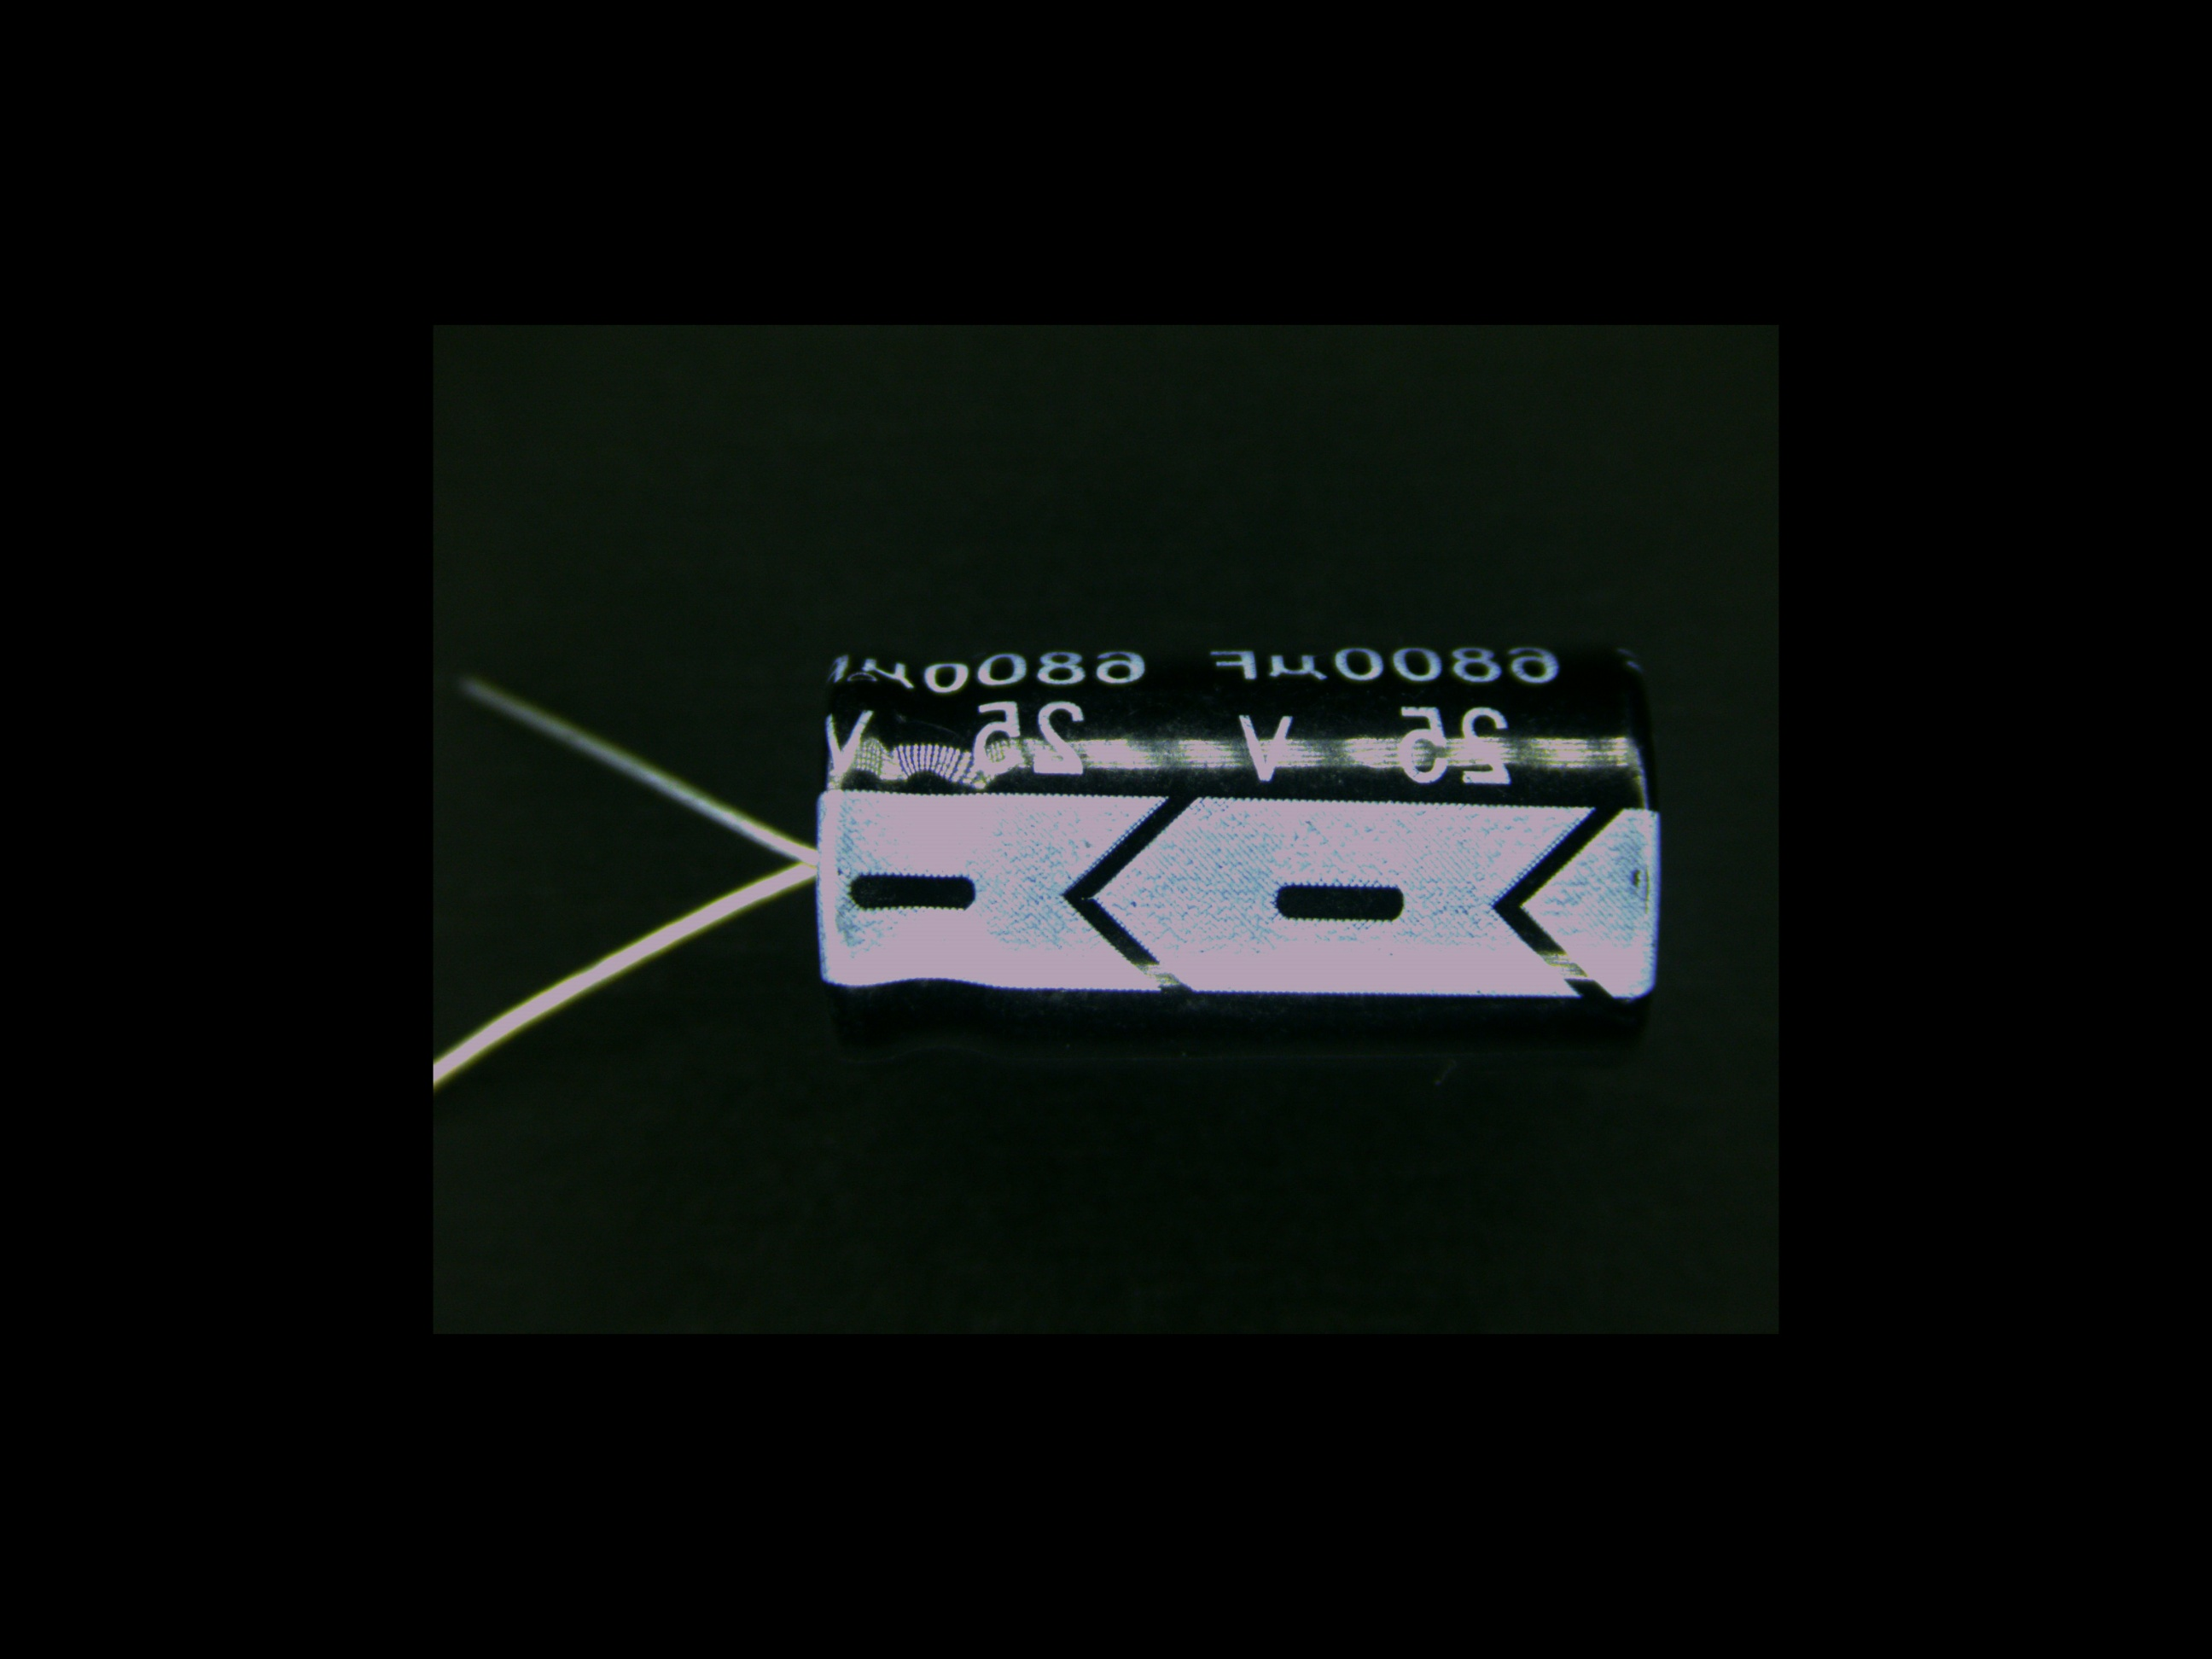c3: (620, 633, 1667, 1079)
